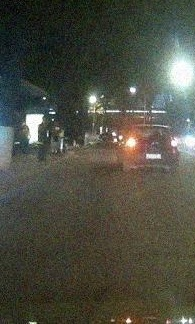L_light: (125, 139, 137, 145)
R_light: (167, 139, 178, 144)
T_light: (148, 126, 156, 129)
night-left: (124, 124, 180, 173)
